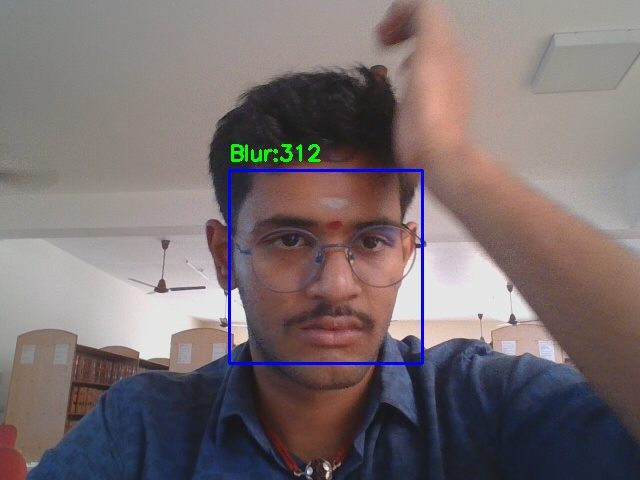real: (229, 170, 422, 363)
